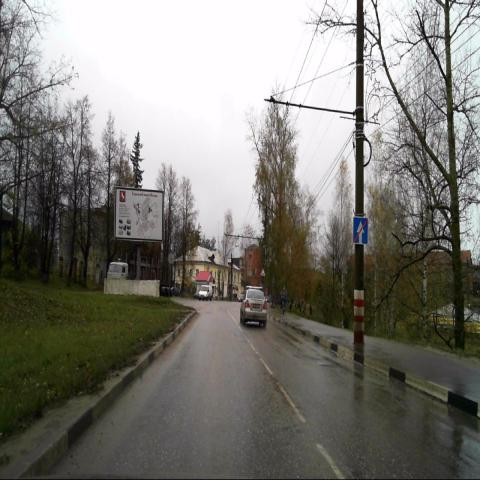5_6: (352, 216, 368, 245)
